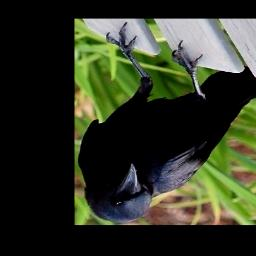Crow: (77, 21, 256, 222)
